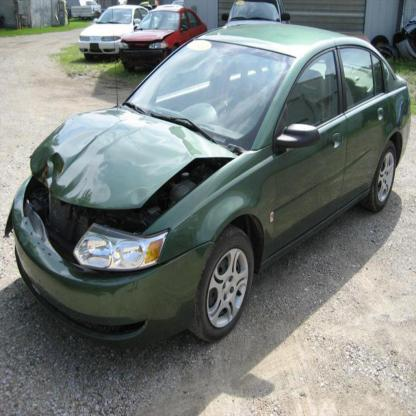door: (271, 92, 390, 262)
front_bumper: (13, 175, 210, 346)
headlamp: (73, 224, 170, 273)
hood: (31, 106, 235, 207)
